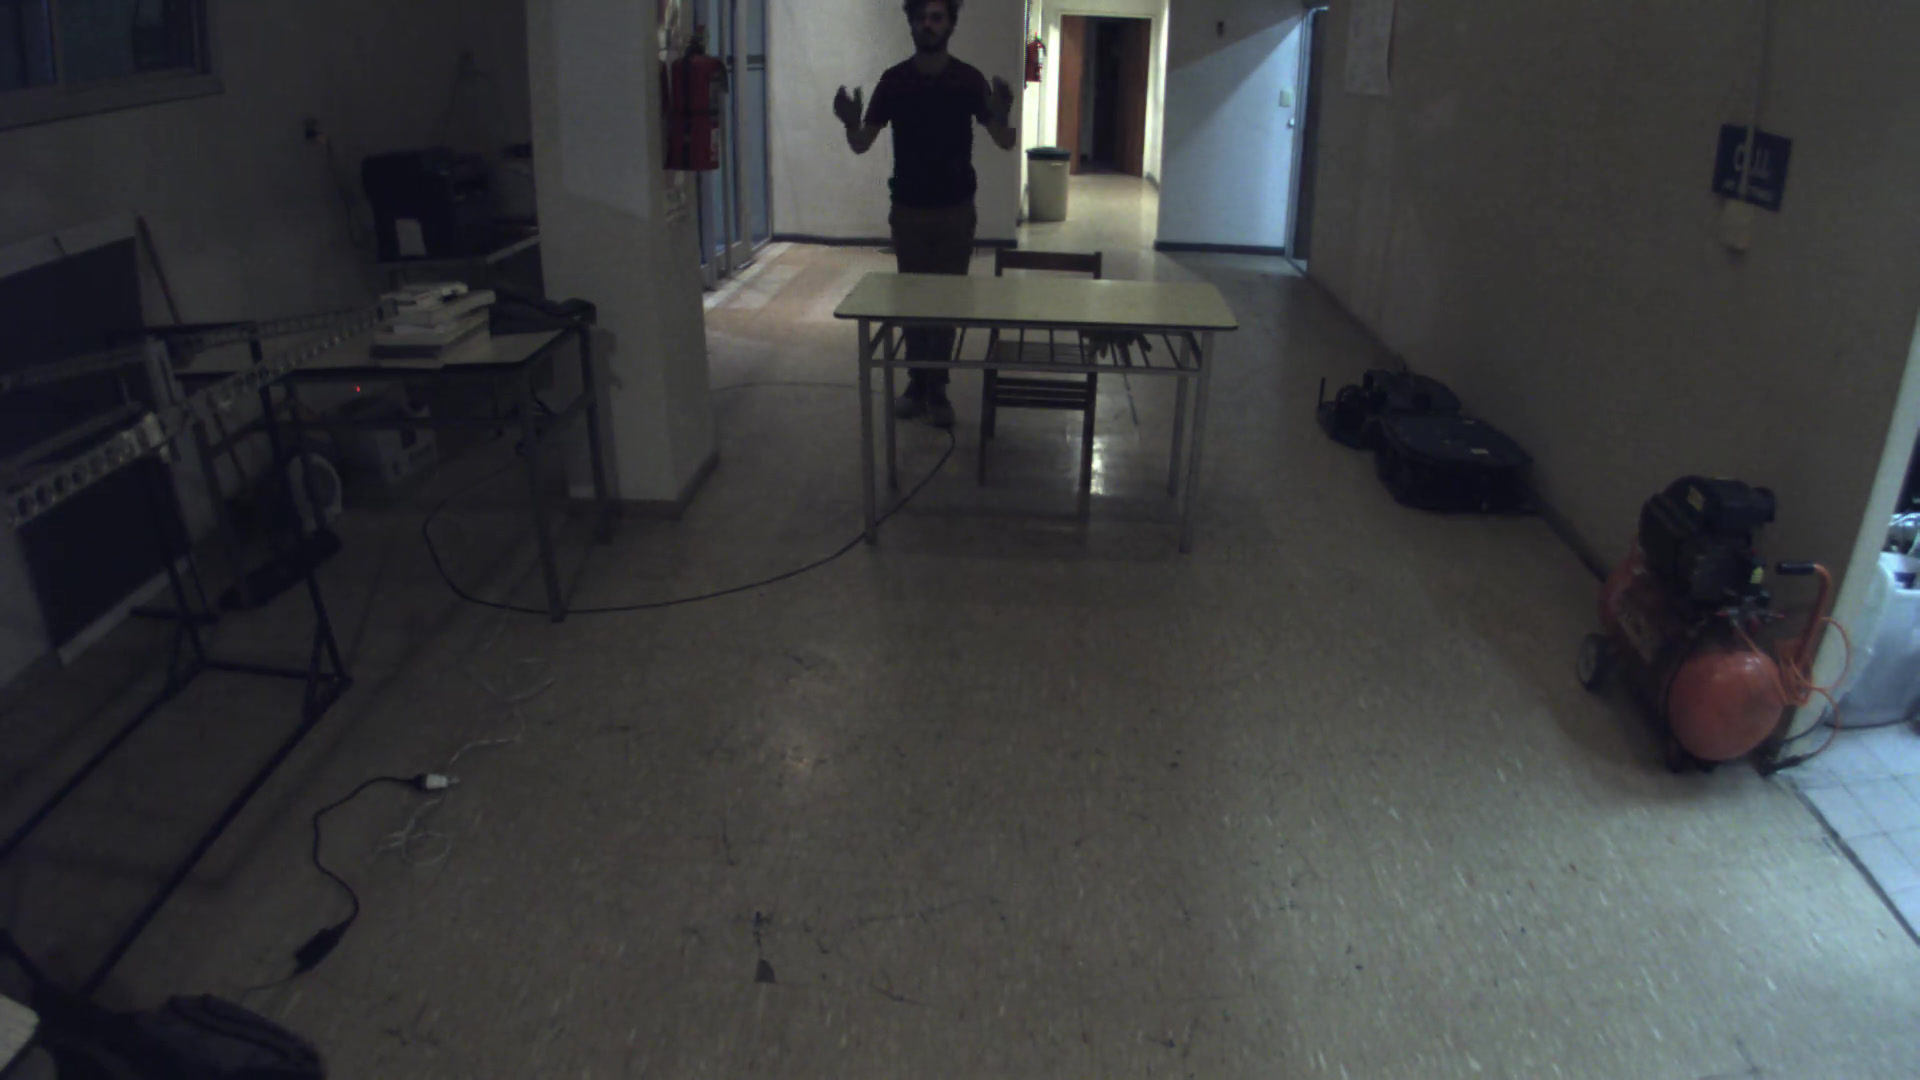hand: (965, 66, 1038, 128), (822, 75, 881, 133)
